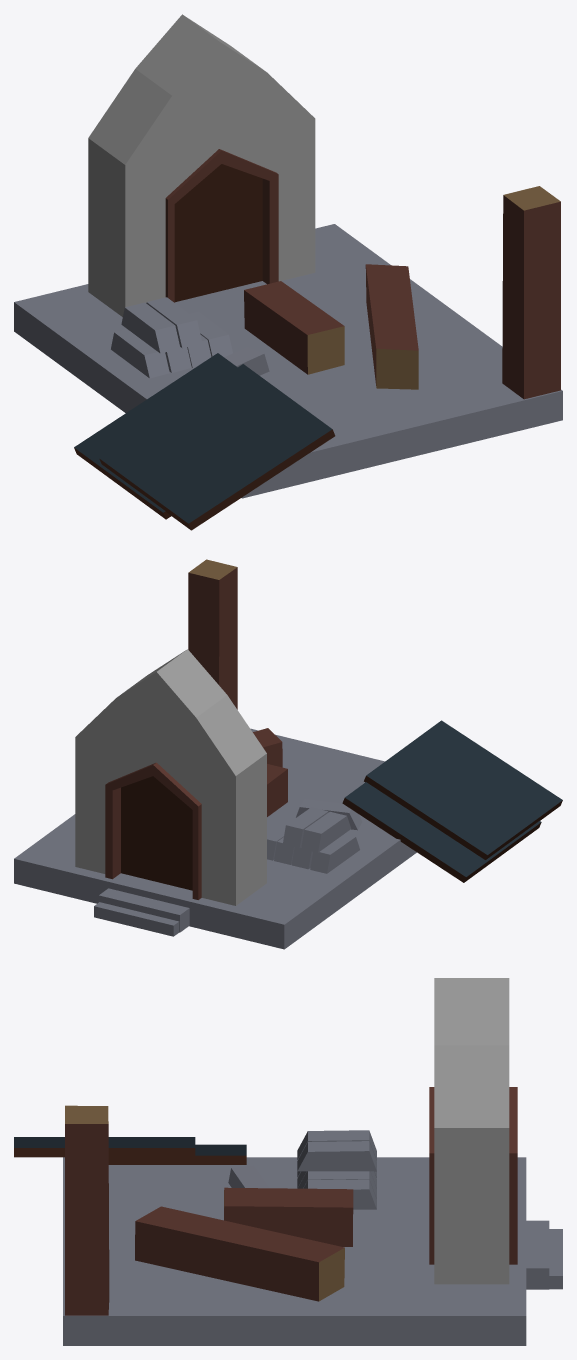
File: kosciol2.fbx
3 renders of one model, top to bottom at view 1: azimuth 30°, elevation 25°; view 2: azimuth 150°, elevation 25°; view 3: azimuth 270°, elevation 25°, orthographic. The views are drawn at different scales.
Visible parts, largest first — view 1: Kosciol2; view 2: Kosciol2; view 3: Kosciol2.
Part boxes in pixels (box(x1,y1,x2,y2)): Kosciol2: box(14, 14, 562, 530); Kosciol2: box(14, 559, 562, 949); Kosciol2: box(14, 978, 562, 1345).
Size of the model in its own units: 927 by 640 by 1090.
